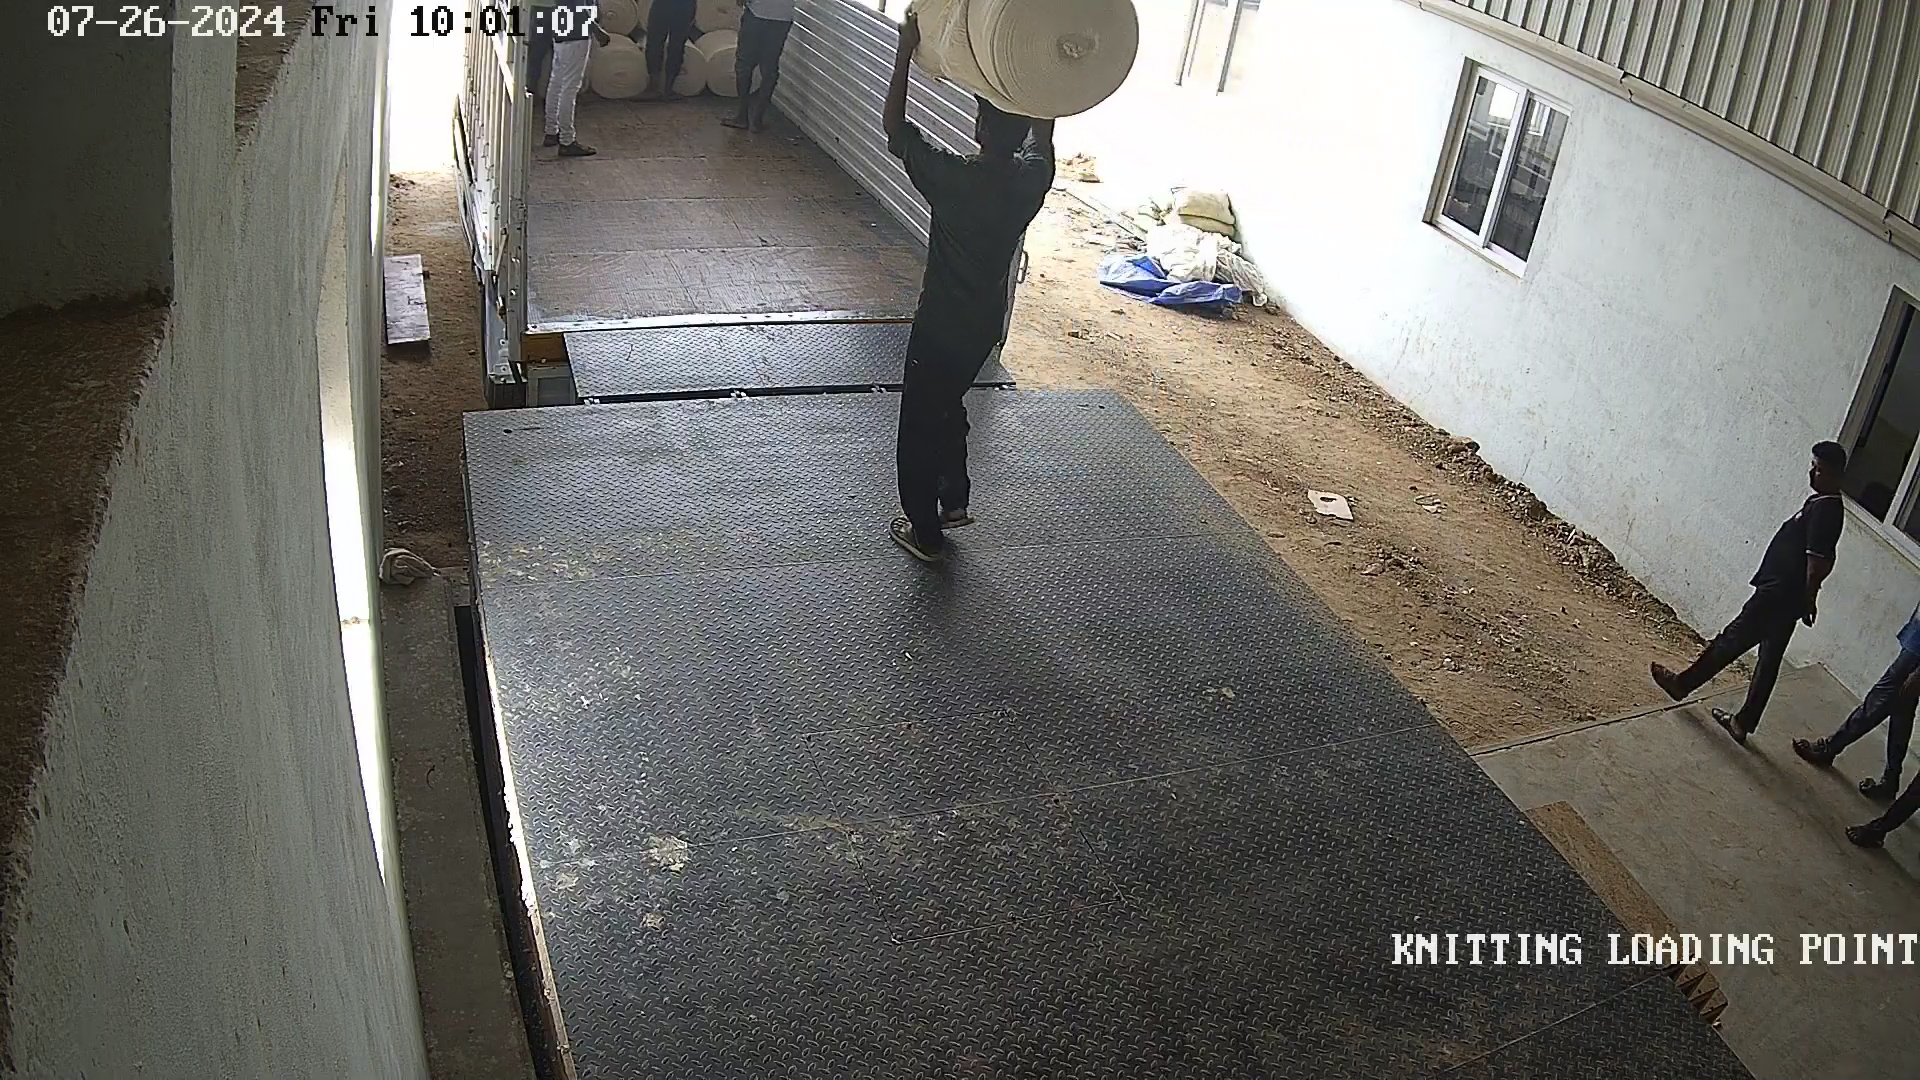bag: (880, 1, 1164, 119)
